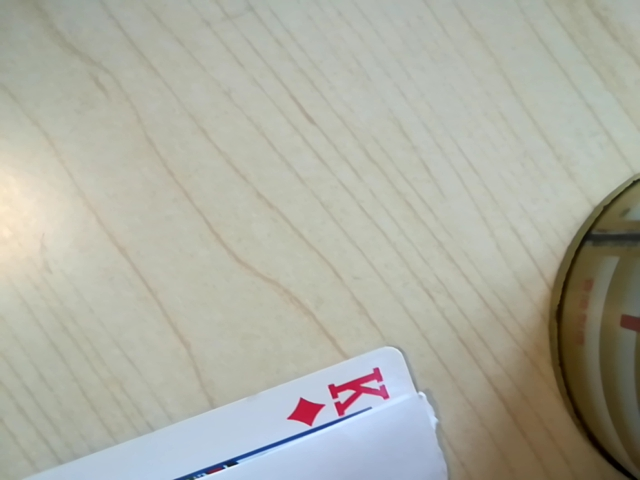fk k: (282, 367, 404, 432)
